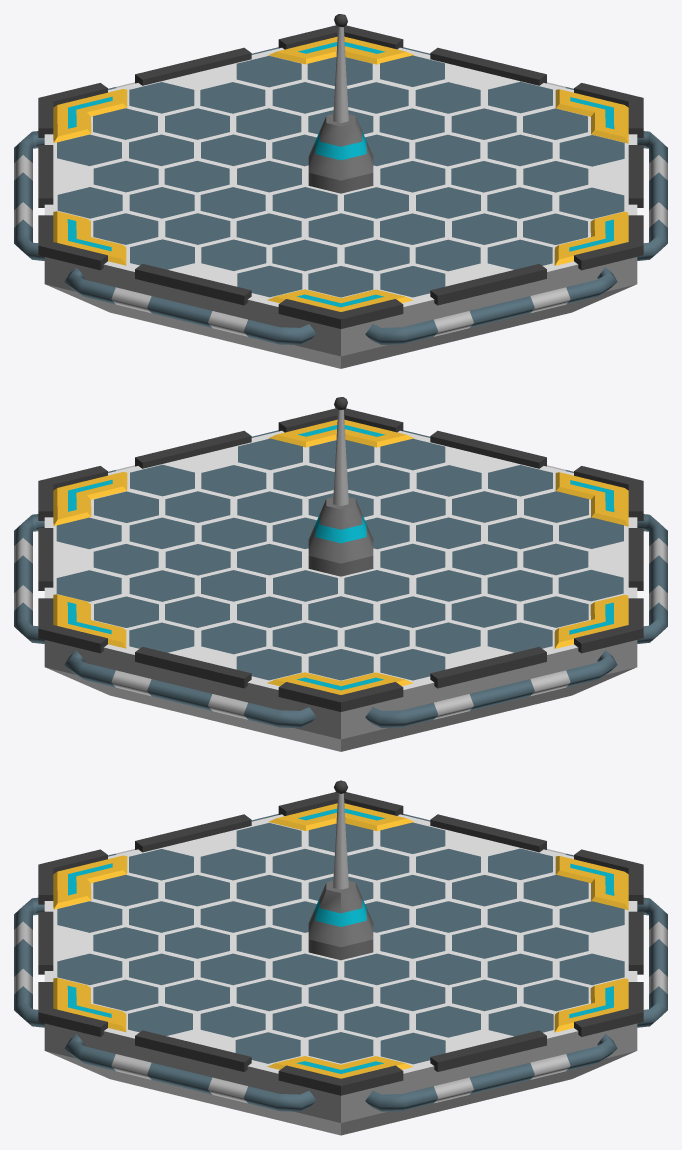
Rendered from antenna_008.fbx.
3 renders of one model, top to bottom at view 1: azimuth 30°, elevation 25°; view 2: azimuth 150°, elevation 25°; view 3: azimuth 270°, elevation 25°, orthographic.
Visible parts, largest first — view 1: antenna_008; view 2: antenna_008; view 3: antenna_008.
Boxes of the visible parts, bbox=[...] form: antenna_008: bbox=[14, 14, 667, 368]; antenna_008: bbox=[14, 397, 667, 751]; antenna_008: bbox=[14, 780, 667, 1135].
Bounding box in the file's own units: 817 × 764 × 407.
